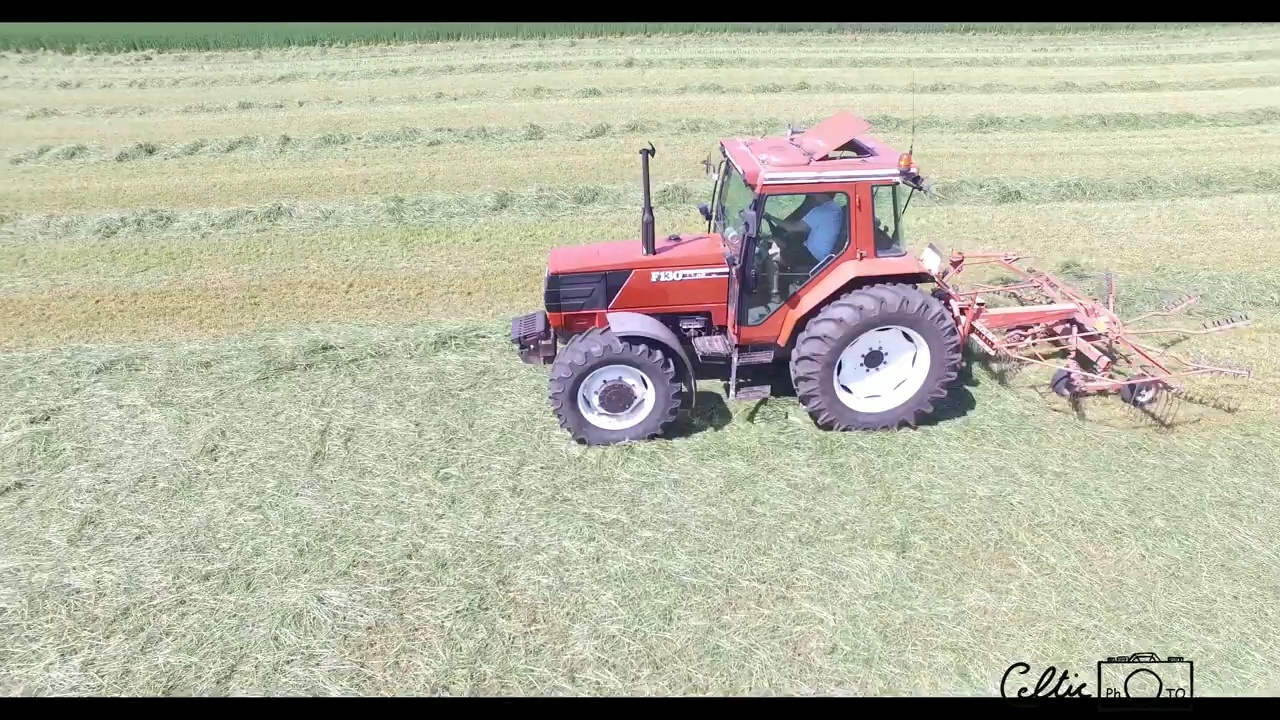traktor: (506, 118, 971, 437)
